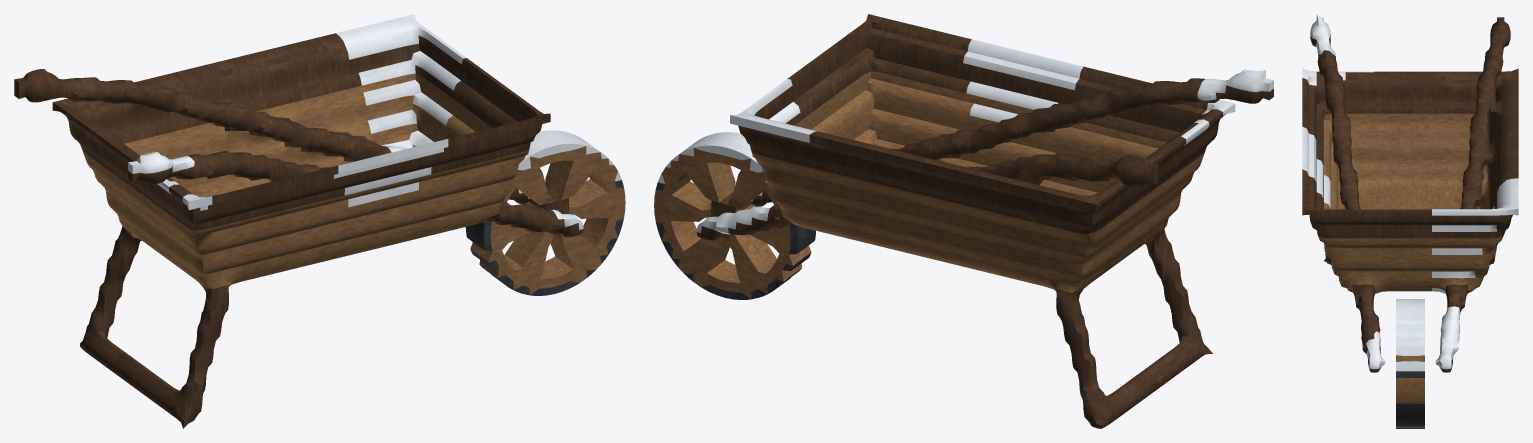
File: prop_wheelbarrow_snow.glb
The picture shows the model from 3 angles, left to right: view 1: azimuth 30°, elevation 25°; view 2: azimuth 150°, elevation 25°; view 3: azimuth 270°, elevation 25°; orthographic projection. The views are drawn at different scales.
Visible parts, largest first — view 1: wilds_prop_wheelbarrow_snow; view 2: wilds_prop_wheelbarrow_snow; view 3: wilds_prop_wheelbarrow_snow.
Boxes of the visible parts, x1,y1,x2,y2 form: wilds_prop_wheelbarrow_snow: (14, 14, 625, 428); wilds_prop_wheelbarrow_snow: (654, 14, 1273, 428); wilds_prop_wheelbarrow_snow: (1302, 14, 1518, 428).
Size of the model in its own units: 1.22 by 0.62 by 0.5312.
Materials: 1 (1 with a texture image).
